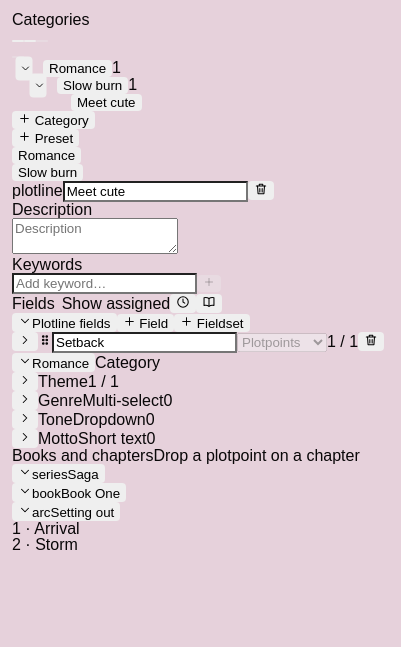
Test: answering on a plotline › says so when the category has no answer yet
This screenshot has width=401, height=647.
Click the button named "Expand Genre" at (25, 400), box [12, 391, 38, 410]
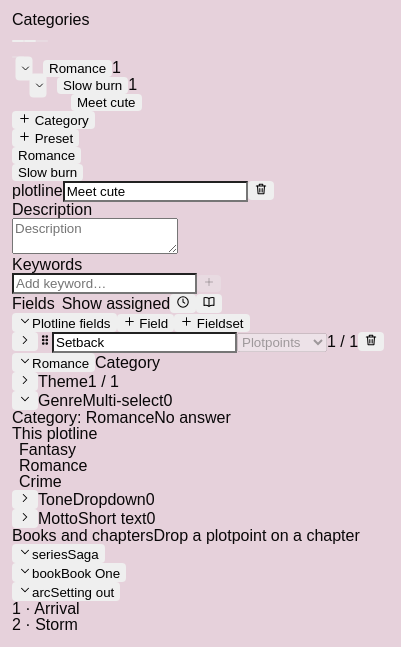
Expected: the text "No answer" is shown, [154, 409, 231, 426]
